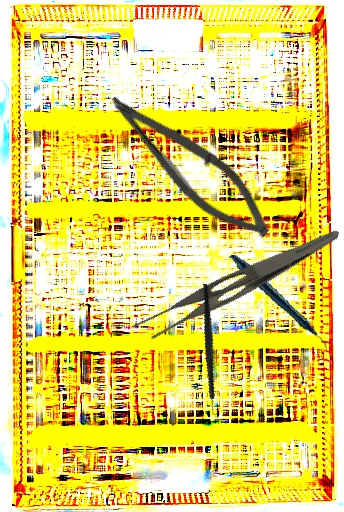Chopper: (166, 283, 259, 422)
Dressing Forceps: (128, 206, 342, 356)
Handpiece: (229, 241, 328, 365)
Micro Scissor: (92, 82, 286, 252)
